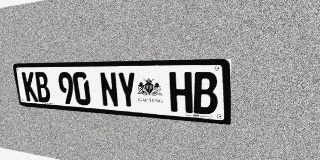0: (72, 72, 91, 106)
9: (57, 72, 76, 105)
B: (193, 72, 218, 115), (34, 72, 51, 103)
H: (169, 72, 193, 113)
K: (21, 72, 38, 102)
N: (99, 72, 119, 108)
Y: (117, 72, 138, 109)
